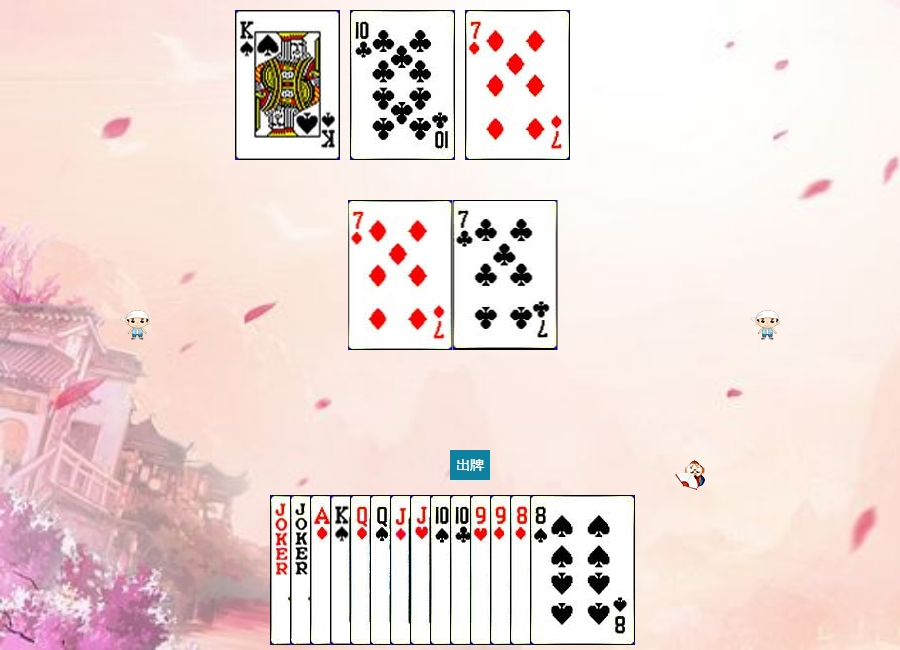10~2: (350, 10, 455, 160), (450, 495, 555, 645)
10~4: (430, 495, 535, 645)
11~1: (390, 495, 495, 645)
11~3: (410, 495, 515, 645)
12~1: (350, 495, 455, 645)
12~4: (370, 495, 475, 645)
13~4: (235, 10, 340, 160), (330, 495, 435, 645)
14~1: (310, 495, 415, 645)
17~3: (290, 495, 395, 645)
18~4: (270, 495, 375, 645)
7~1: (465, 10, 570, 160), (348, 200, 453, 350)
7~2: (453, 200, 558, 350)
8~1: (510, 495, 615, 645)
8~4: (530, 495, 635, 645)
9~1: (490, 495, 595, 645)
9~3: (470, 495, 575, 645)
